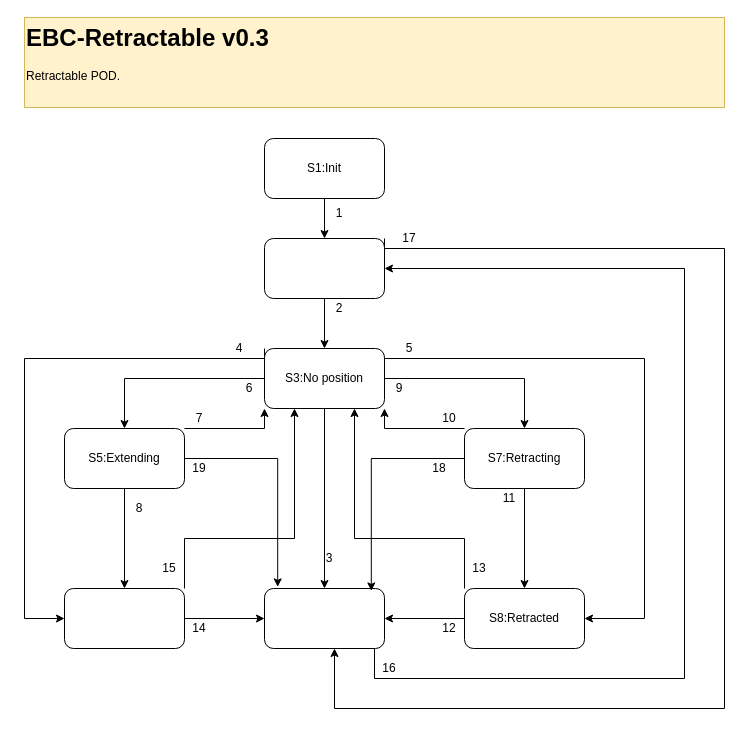
Image size: 750x734. Some labels were removed from this diagram. Here are the shapes that lost their labels. From the top down, the centre of each, then its label:
At point 324,268: "S2:Calibrating".
At point 124,618: "S6:Extended".
At point 324,618: "S4:Emergency stop".
